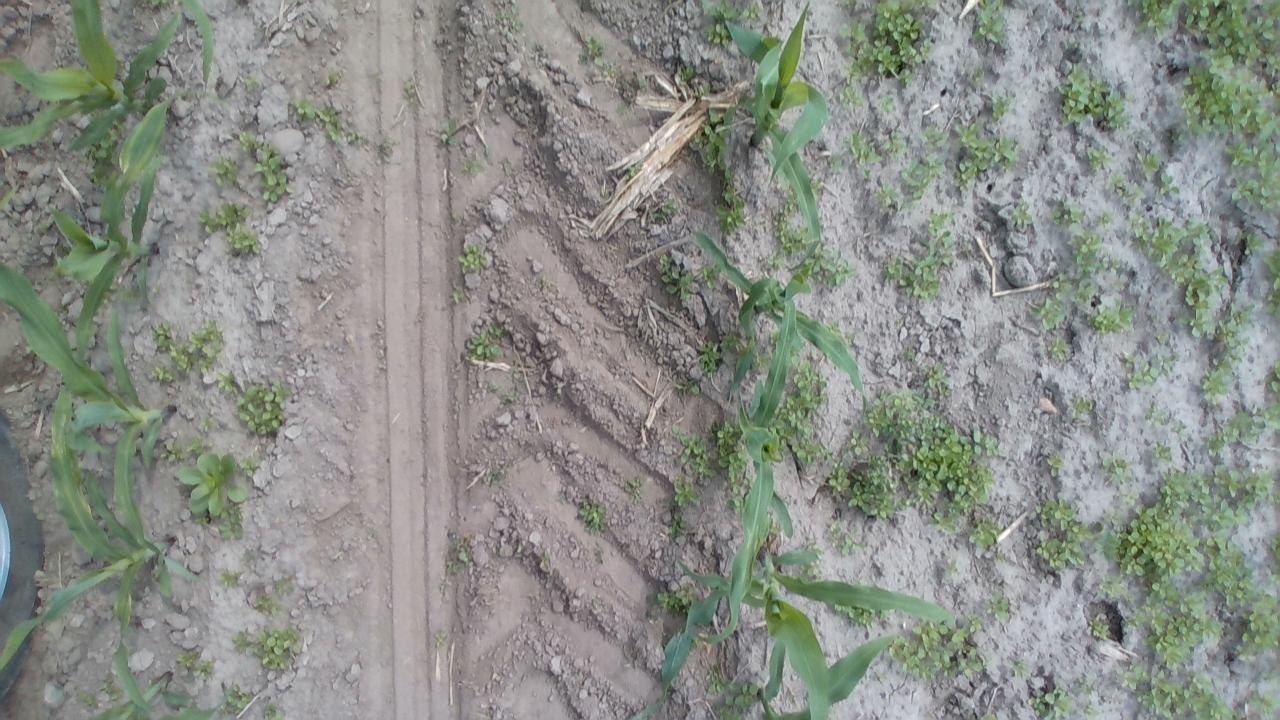Maize: (630, 533, 964, 720), (2, 372, 190, 702), (0, 262, 174, 552), (44, 85, 185, 387), (682, 222, 873, 424), (0, 0, 199, 156), (718, 262, 804, 618), (728, 0, 838, 270), (746, 626, 904, 720), (92, 665, 248, 720), (180, 0, 216, 102)
Weeds: (851, 384, 1002, 523), (1100, 461, 1203, 590), (1176, 58, 1275, 136), (1122, 592, 1222, 667), (846, 2, 930, 91), (774, 357, 834, 464), (890, 614, 987, 680), (1184, 3, 1271, 66), (1199, 464, 1280, 530), (176, 454, 252, 522), (1056, 64, 1129, 132), (1134, 216, 1214, 278), (1199, 306, 1250, 401), (829, 452, 894, 518), (1036, 494, 1092, 567), (1202, 534, 1258, 604), (1176, 252, 1228, 326), (1224, 134, 1276, 207), (957, 121, 1019, 182), (598, 59, 654, 119), (700, 0, 761, 54), (1235, 593, 1280, 664), (236, 382, 290, 435), (884, 253, 942, 300), (198, 204, 256, 250), (1177, 674, 1233, 720), (251, 144, 292, 204), (292, 98, 344, 142), (714, 420, 748, 485), (486, 366, 532, 412), (802, 246, 854, 286), (1138, 670, 1181, 717), (716, 677, 762, 720), (254, 628, 301, 670), (1134, 1, 1184, 39), (1106, 168, 1148, 212), (902, 156, 942, 201), (692, 120, 728, 170), (1126, 354, 1176, 390), (674, 61, 714, 104), (187, 320, 223, 364), (849, 128, 882, 176), (830, 604, 886, 632), (658, 257, 692, 303), (466, 325, 506, 364), (91, 130, 119, 184), (974, 2, 1008, 46), (213, 503, 249, 544), (1222, 410, 1264, 445), (1088, 303, 1134, 334), (442, 534, 473, 580), (716, 185, 746, 231), (1072, 231, 1104, 272), (1031, 688, 1071, 720), (826, 522, 862, 556), (477, 460, 517, 490), (1266, 240, 1280, 322), (1046, 448, 1076, 484), (1262, 526, 1280, 586), (1100, 454, 1137, 483), (678, 431, 708, 466), (1030, 299, 1065, 329), (228, 623, 258, 658), (1104, 256, 1132, 293), (94, 672, 126, 704), (969, 516, 1000, 549), (1248, 686, 1280, 717), (834, 86, 871, 112), (650, 588, 690, 612), (578, 501, 608, 532), (774, 221, 804, 252), (430, 117, 458, 150), (1050, 200, 1085, 226), (620, 474, 645, 509), (209, 156, 239, 185), (826, 318, 857, 346), (882, 132, 908, 163), (722, 484, 748, 515), (671, 478, 699, 506), (1118, 662, 1146, 690), (220, 568, 248, 596), (1010, 200, 1033, 234), (776, 184, 802, 214), (1265, 356, 1280, 406), (706, 664, 729, 696), (956, 647, 982, 675), (986, 592, 1010, 622), (374, 132, 394, 168), (877, 90, 901, 120), (1158, 169, 1184, 196), (458, 244, 482, 273), (926, 209, 956, 232), (797, 558, 828, 580), (402, 74, 422, 108), (457, 150, 483, 176), (73, 684, 99, 710), (967, 66, 992, 93), (845, 430, 871, 455), (874, 182, 900, 207), (922, 364, 948, 389), (1136, 151, 1160, 178), (828, 148, 851, 176), (700, 343, 721, 373), (1070, 280, 1096, 304), (1070, 670, 1096, 694), (258, 696, 284, 720), (154, 322, 176, 350), (344, 123, 366, 151), (450, 284, 475, 308), (1100, 576, 1126, 599), (699, 262, 722, 288), (1094, 205, 1117, 231), (990, 94, 1012, 121), (1146, 402, 1166, 431), (169, 346, 192, 371), (276, 576, 298, 602), (938, 557, 962, 580), (586, 36, 606, 63), (1257, 405, 1276, 433), (255, 594, 279, 616), (1047, 338, 1071, 360), (922, 127, 946, 149), (1150, 441, 1172, 465), (1238, 230, 1262, 252), (1069, 396, 1094, 417), (1087, 146, 1110, 168), (240, 544, 262, 567), (237, 130, 259, 153), (242, 453, 262, 478), (746, 350, 770, 370), (674, 379, 700, 397), (1090, 617, 1110, 640), (227, 688, 250, 708), (1155, 326, 1175, 349), (499, 7, 518, 31), (1053, 272, 1070, 298), (325, 66, 342, 92), (1259, 664, 1280, 685), (152, 364, 174, 384), (722, 332, 744, 352), (1008, 658, 1028, 680), (536, 550, 556, 572), (216, 372, 236, 394), (196, 354, 218, 374), (162, 441, 182, 462), (656, 200, 676, 221), (668, 513, 684, 539), (1078, 702, 1102, 719), (184, 435, 207, 452), (899, 349, 921, 366), (196, 660, 214, 680), (1206, 433, 1222, 455), (586, 598, 608, 613), (434, 628, 451, 646), (992, 547, 1009, 565), (626, 163, 644, 180), (178, 652, 196, 668), (1170, 420, 1184, 438), (599, 182, 613, 200), (245, 76, 261, 91), (150, 0, 174, 10), (198, 415, 216, 428), (978, 709, 998, 720), (771, 332, 780, 354)
